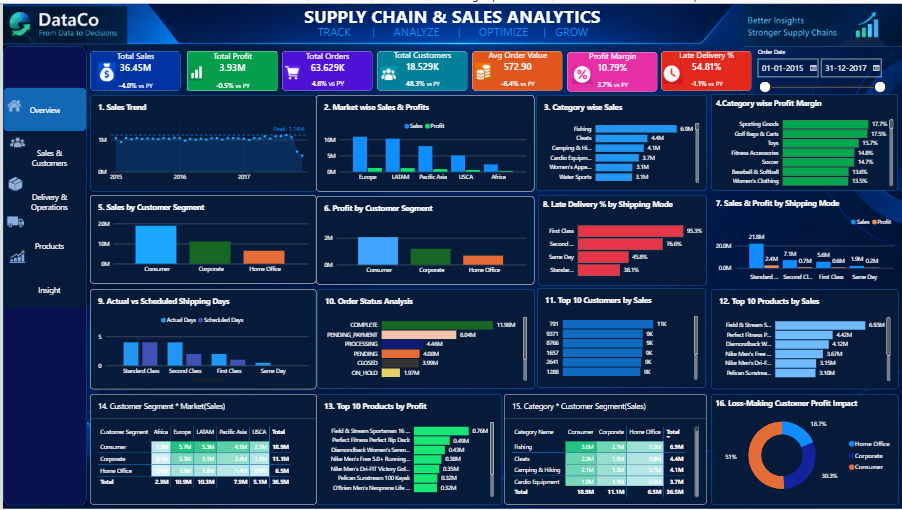

This screenshot's page, from the dashboard's own definition file:
{"tool":"powerbi","page":{"name":"Overview","canvas":[1920,1080],"ordinal":0},"visuals":[{"type":"textbox","box":[488,0,940.8,83.2],"z":0},{"type":"group","id":"g1","title":"Group 10","box":[0,88.7,179.2,980],"z":0,"group":"g10"},{"type":"slicer","fields":{"Values":["DateTable.Date"]},"box":[1601.7,93.4,292,100],"z":0},{"type":"cardVisual","fields":{"Data":["Sum(public dataco_raw.Order Profit Per Order)"]},"box":[391.7,100,193,85],"z":0,"group":"g2"},{"type":"cardVisual","fields":{"Data":["Count(public dataco_raw.Order Id)"]},"box":[595,100,193,85],"z":0,"group":"g4"},{"type":"cardVisual","fields":{"Data":["Count(public dataco_raw.Customer Id)"]},"box":[798,100,193,85],"z":0,"group":"g5"},{"type":"cardVisual","fields":{"Data":["public dataco_raw.AOV"]},"box":[1000,100,193,85],"z":0,"group":"g6"},{"type":"cardVisual","fields":{"Data":["public dataco_raw.Late Delivery %"]},"box":[1403.3,100,193,85.7],"z":0,"group":"g8"},{"type":"cardVisual","fields":{"Data":["public dataco_raw.Profit Margin"]},"box":[1203.3,101.7,193,85.7],"z":0,"group":"g7"},{"type":"shape","box":[0,88.7,178.7,980],"z":500,"group":"g1"},{"type":"textbox","box":[535.5,42.7,849.1,40.5],"z":1000},{"type":"group","id":"g2","title":"Group 1","box":[391.7,100,193,85],"z":1000},{"type":"image","box":[6.4,275.2,50,40],"z":1000,"group":"g10"},{"type":"cardVisual","fields":{"Data":["Sum(public dataco_raw.Sales)"]},"box":[185,100,193,85],"z":2000,"group":"g3"},{"type":"group","id":"g3","title":"Group 2","box":[185,100,193,85],"z":2000},{"type":"image","box":[4.3,192,40,50],"z":2000,"group":"g10"},{"type":"lineChart","title":"1. Sales Trend","fields":{"Category":["public dataco_raw.order date (DateOrders).Variation.Date Hierarchy.Year","public dataco_raw.order date (DateOrders).Variation.Date Hierarchy.Month"],"Y":["Sum(public dataco_raw.Sales)"]},"box":[185,193.3,482.9,205.7],"z":2000},{"type":"group","id":"g4","title":"Group 3","box":[595,100,193,85],"z":3000},{"type":"image","box":[6.4,358.4,40,50],"z":3000,"group":"g10"},{"type":"clusteredColumnChart","title":"5. Sales by Customer Segment","fields":{"Category":["public dataco_raw.Customer Segment"],"Y":["Sum(public dataco_raw.Sales)"]},"box":[185,408.3,482.9,188.6],"z":3000},{"type":"group","id":"g5","title":"Group 4","box":[798,100,193,85],"z":4000},{"type":"clusteredColumnChart","title":"6. Profit by Customer Segment","fields":{"Category":["public dataco_raw.Customer Segment"],"Y":["Sum(public dataco_raw.Order Profit Per Order)"]},"box":[668.6,408.6,465.7,188.6],"z":4000},{"type":"image","box":[6.4,439.5,40,50],"z":4000,"group":"g10"},{"type":"group","id":"g6","title":"Group 5","box":[1000,100,193,85],"z":5000},{"type":"clusteredColumnChart","title":"2. Market wise Sales & Profits","fields":{"Category":["public dataco_raw.Market"],"Y":["Sum(public dataco_raw.Sales)","Sum(public dataco_raw.Order Profit Per Order)"]},"box":[668.3,193.3,465.7,205.7],"z":5000},{"type":"image","box":[10.7,514.2,40,50],"z":5000,"group":"g10"},{"type":"group","id":"g7","title":"Group 6","box":[1203.3,101.7,193,85.7],"z":6000},{"type":"clusteredBarChart","title":"8. Late Delivery % by Shipping Mode","fields":{"Category":["public dataco_raw.Shipping Mode"],"Y":["public dataco_raw.Late Delivery %"]},"box":[1141.7,408.3,360,193.3],"z":6000},{"type":"group","id":"g8","title":"Group 7","box":[1403.3,100,193,85.7],"z":7000},{"type":"clusteredColumnChart","title":"7. Sales & Profit by Shipping Mode","fields":{"Category":["public dataco_raw.Shipping Mode"],"Y":["Sum(public dataco_raw.Sales)","Sum(public dataco_raw.Order Profit Per Order)"]},"box":[1511.4,408.6,398.6,188.6],"z":7000},{"type":"clusteredBarChart","title":"3. Category wise Sales","fields":{"Category":["public dataco_raw.Category Name"],"Y":["Sum(public dataco_raw.Sales)"]},"box":[1136.7,193.3,365,205],"z":8000},{"type":"clusteredColumnChart","title":"9. Actual vs Scheduled Shipping Days","fields":{"Category":["public dataco_raw.Shipping Mode"],"Y":["Avg(public dataco_raw.Days for shipping (real))","Avg(public dataco_raw.Days for shipment (scheduled))"]},"box":[185.7,607.1,482.9,214.3],"z":9000},{"type":"clusteredBarChart","title":"10. Order Status Analysis","fields":{"Category":["public dataco_raw.Order Status"],"Y":["Sum(public dataco_raw.Sales)"]},"box":[670,608,465,213.3],"z":10000},{"type":"clusteredBarChart","title":"4.Category wise Profit Margin","fields":{"Category":["public dataco_raw.Category Name"],"Y":["public dataco_raw.Profit Margin"]},"box":[1511.4,192.9,398.6,205.7],"z":11000},{"type":"clusteredBarChart","title":"11. Top 10 Customers by Sales","fields":{"Category":["public dataco_raw.Customer Id"],"Y":["Sum(public dataco_raw.Sales)"]},"box":[1140,606.7,360,213.3],"z":12000},{"type":"donutChart","title":"16. Loss-Making Customer Profit Impact","fields":{"Category":["public dataco_raw.Customer Segment"],"Y":["public dataco_raw.Loss-Making Customer Profit"]},"box":[1511.4,831.4,400,237.1],"z":13000},{"type":"clusteredBarChart","title":"13. Top 10 Products by Profit","fields":{"Category":["public dataco_raw.Product Name"],"Y":["Sum(public dataco_raw.Order Profit Per Order)"]},"box":[668.3,831.7,396.7,236.7],"z":14000},{"type":"clusteredBarChart","title":"12. Top 10 Products by Sales","fields":{"Category":["public dataco_raw.Product Name"],"Y":["Sum(public dataco_raw.Sales)"]},"box":[1511.4,607.1,400,214.3],"z":15000},{"type":"textbox","box":[0,194.1,166.4,494.9],"z":16000},{"type":"pivotTable","title":"14. Customer Segment * Market(Sales)","fields":{"Columns":["public dataco_raw.Market"],"Rows":["public dataco_raw.Customer Segment"],"Values":["Sum(public dataco_raw.Sales)"]},"box":[185,831.7,484,236],"z":17000},{"type":"pivotTable","title":"15. Category * Customer Segment(Sales)","fields":{"Columns":["public dataco_raw.Customer Segment"],"Rows":["public dataco_raw.Category Name"],"Values":["Sum(public dataco_raw.Sales)"]},"box":[1068.6,831.4,432.9,235.7],"z":18000},{"type":"image","box":[0,0,265,93.3],"z":19000},{"type":"image","box":[1578.7,0,341.3,93.9],"z":20000},{"type":"cardVisual","fields":{"Data":["public dataco_raw.Profit Margin"]},"box":[1920,114.3,192.9,85.7],"z":21000},{"type":"pageNavigator","box":[0,176.9,179.2,475.7],"z":22000,"group":"g1"},{"type":"group","id":"g9","title":"Group 9","box":[10,218.3,50,381.7],"z":23000},{"type":"image","box":[10,311.6,50,40],"z":23000,"group":"g9"},{"type":"group","id":"g10","title":"Group 11","box":[0,88.7,179.2,980],"z":24000},{"type":"image","box":[15,218.3,40,50],"z":24000,"group":"g9"},{"type":"image","box":[15,391.6,40,50],"z":25000,"group":"g9"},{"type":"image","box":[14.9,462.9,40,50],"z":26000,"group":"g9"},{"type":"image","box":[15,550,40,50],"z":27000,"group":"g9"},{"type":"image","box":[1006.7,121.7,33.8,46.2],"z":30000,"group":"g6"},{"type":"image","box":[805,126.7,38.3,43.3],"z":30000,"group":"g5"},{"type":"image","box":[1215,128.4,44.3,41.4],"z":30000,"group":"g7"},{"type":"image","box":[595,130,45,35],"z":30000,"group":"g4"},{"type":"image","box":[201.7,123.3,37,43],"z":31000,"group":"g3"},{"type":"image","box":[1405,126.7,45,41.7],"z":31000,"group":"g8"},{"type":"image","box":[396.7,128.3,30,36],"z":32000,"group":"g2"}]}

Visuals, with their boxes in screenshot pixels (x1, y1, x2, y2), scaled from the page's 1920x1080 canvas onto the 902x510 screenshot:
textbox: <region>229, 0, 671, 39</region>
"Group 10" group: <region>0, 42, 84, 505</region>
slicer - DateTable.Date: <region>752, 44, 890, 91</region>
cardVisual - Sum(public dataco_raw.Order Profit Per Order): <region>184, 47, 275, 87</region>
cardVisual - Count(public dataco_raw.Order Id): <region>280, 47, 370, 87</region>
cardVisual - Count(public dataco_raw.Customer Id): <region>375, 47, 466, 87</region>
cardVisual - public dataco_raw.AOV: <region>470, 47, 560, 87</region>
cardVisual - public dataco_raw.Late Delivery %: <region>659, 47, 750, 88</region>
cardVisual - public dataco_raw.Profit Margin: <region>565, 48, 656, 88</region>
shape: <region>0, 42, 84, 505</region>
textbox: <region>252, 20, 650, 39</region>
"Group 1" group: <region>184, 47, 275, 87</region>
image: <region>3, 130, 26, 149</region>
cardVisual - Sum(public dataco_raw.Sales): <region>87, 47, 178, 87</region>
"Group 2" group: <region>87, 47, 178, 87</region>
image: <region>2, 91, 21, 114</region>
"1. Sales Trend" lineChart: <region>87, 91, 314, 188</region>
"Group 3" group: <region>280, 47, 370, 87</region>
image: <region>3, 169, 22, 193</region>
"5. Sales by Customer Segment" clusteredColumnChart: <region>87, 193, 314, 282</region>
"Group 4" group: <region>375, 47, 466, 87</region>
"6. Profit by Customer Segment" clusteredColumnChart: <region>314, 193, 533, 282</region>
image: <region>3, 208, 22, 231</region>
"Group 5" group: <region>470, 47, 560, 87</region>
"2. Market wise Sales & Profits" clusteredColumnChart: <region>314, 91, 533, 188</region>
image: <region>5, 243, 24, 266</region>
"Group 6" group: <region>565, 48, 656, 88</region>
"8. Late Delivery % by Shipping Mode" clusteredBarChart: <region>536, 193, 705, 284</region>
"Group 7" group: <region>659, 47, 750, 88</region>
"7. Sales & Profit by Shipping Mode" clusteredColumnChart: <region>710, 193, 897, 282</region>
"3. Category wise Sales" clusteredBarChart: <region>534, 91, 705, 188</region>
"9. Actual vs Scheduled Shipping Days" clusteredColumnChart: <region>87, 287, 314, 388</region>
"10. Order Status Analysis" clusteredBarChart: <region>315, 287, 533, 388</region>
"4.Category wise Profit Margin" clusteredBarChart: <region>710, 91, 897, 188</region>
"11. Top 10 Customers by Sales" clusteredBarChart: <region>536, 286, 705, 387</region>
"16. Loss-Making Customer Profit Impact" donutChart: <region>710, 393, 898, 505</region>
"13. Top 10 Products by Profit" clusteredBarChart: <region>314, 393, 500, 505</region>
"12. Top 10 Products by Sales" clusteredBarChart: <region>710, 287, 898, 388</region>
textbox: <region>0, 92, 78, 325</region>
"14. Customer Segment * Market(Sales)" pivotTable: <region>87, 393, 314, 504</region>
"15. Category * Customer Segment(Sales)" pivotTable: <region>502, 393, 705, 504</region>
image: <region>0, 0, 124, 44</region>
image: <region>742, 0, 901, 44</region>
pageNavigator: <region>0, 84, 84, 308</region>
"Group 9" group: <region>5, 103, 28, 283</region>
image: <region>5, 147, 28, 166</region>
"Group 11" group: <region>0, 42, 84, 505</region>
image: <region>7, 103, 26, 127</region>
image: <region>7, 185, 26, 209</region>
image: <region>7, 219, 26, 242</region>
image: <region>7, 260, 26, 283</region>
image: <region>473, 57, 489, 79</region>
image: <region>378, 60, 396, 80</region>
image: <region>571, 61, 592, 80</region>
image: <region>280, 61, 301, 78</region>
image: <region>95, 58, 112, 79</region>
image: <region>660, 60, 681, 80</region>
image: <region>186, 61, 200, 78</region>
